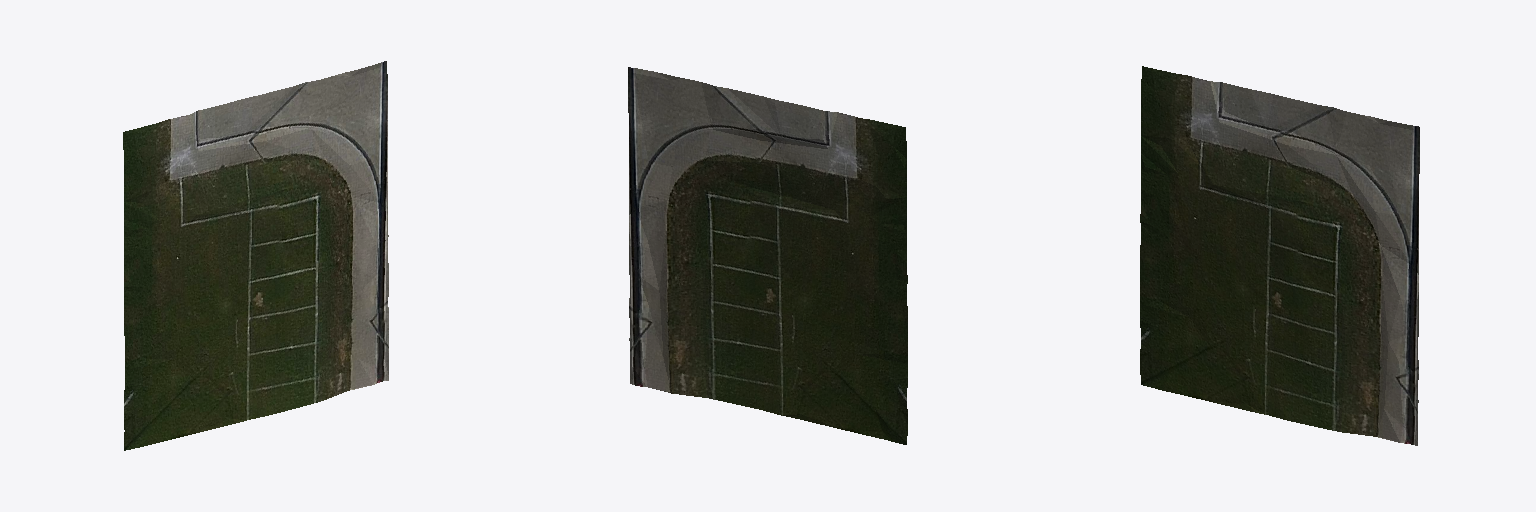
The picture shows the model from 3 angles: view 1: azimuth 30°, elevation 25°; view 2: azimuth 150°, elevation 25°; view 3: azimuth 330°, elevation 25°; orthographic projection.
Parts seen in each view (by area): view 1: obj_0; view 2: obj_0; view 3: obj_0.
Boxes of the visible parts, box(x1,y1,x2,y2) form: obj_0: box(123, 61, 388, 450); obj_0: box(628, 67, 907, 444); obj_0: box(1140, 66, 1419, 445).
Bounding box in the file's own units: 20.08 × 22.53 × 1.13.
Materials: 1 (1 with a texture image).